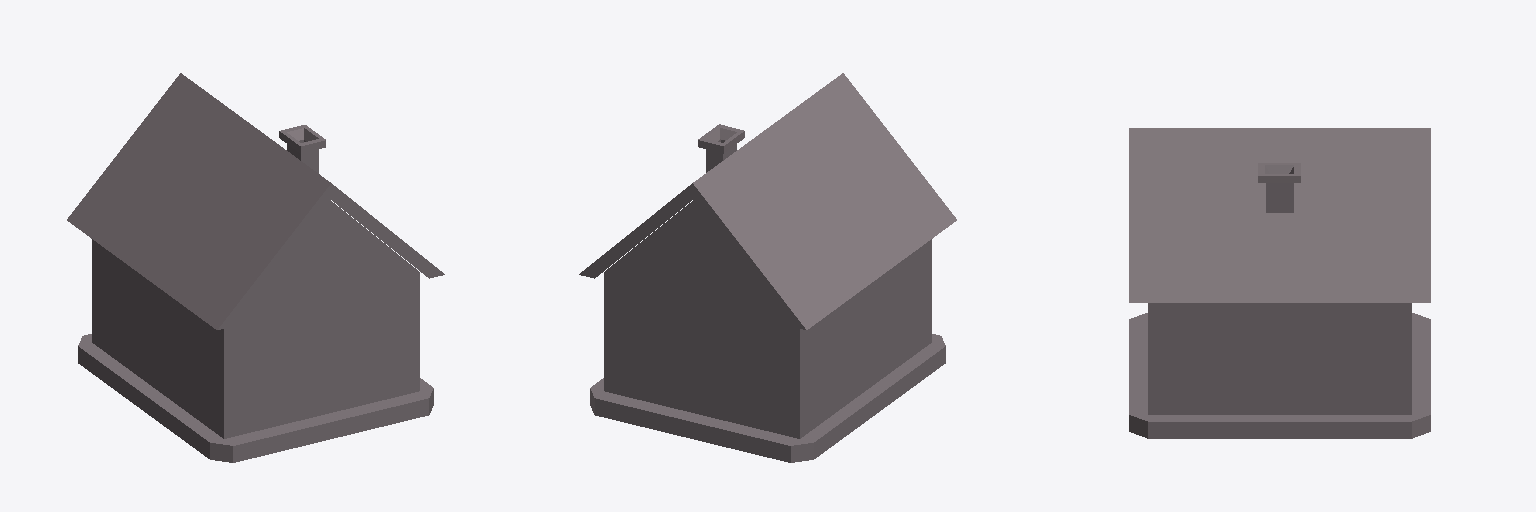
3 renders of one model, left to right at view 1: azimuth 30°, elevation 25°; view 2: azimuth 150°, elevation 25°; view 3: azimuth 270°, elevation 25°, orthographic.
Parts seen in each view (by area): view 1: Cube_Cube.001; view 2: Cube_Cube.001; view 3: Cube_Cube.001.
Boxes of the visible parts, <box> form: Cube_Cube.001: <box>67,73,444,462</box>; Cube_Cube.001: <box>579,73,956,462</box>; Cube_Cube.001: <box>1129,128,1430,438</box>.
Size of the model in its own units: 1.4 by 1.5 by 1.6.
Materials: 1 (1 with a texture image).